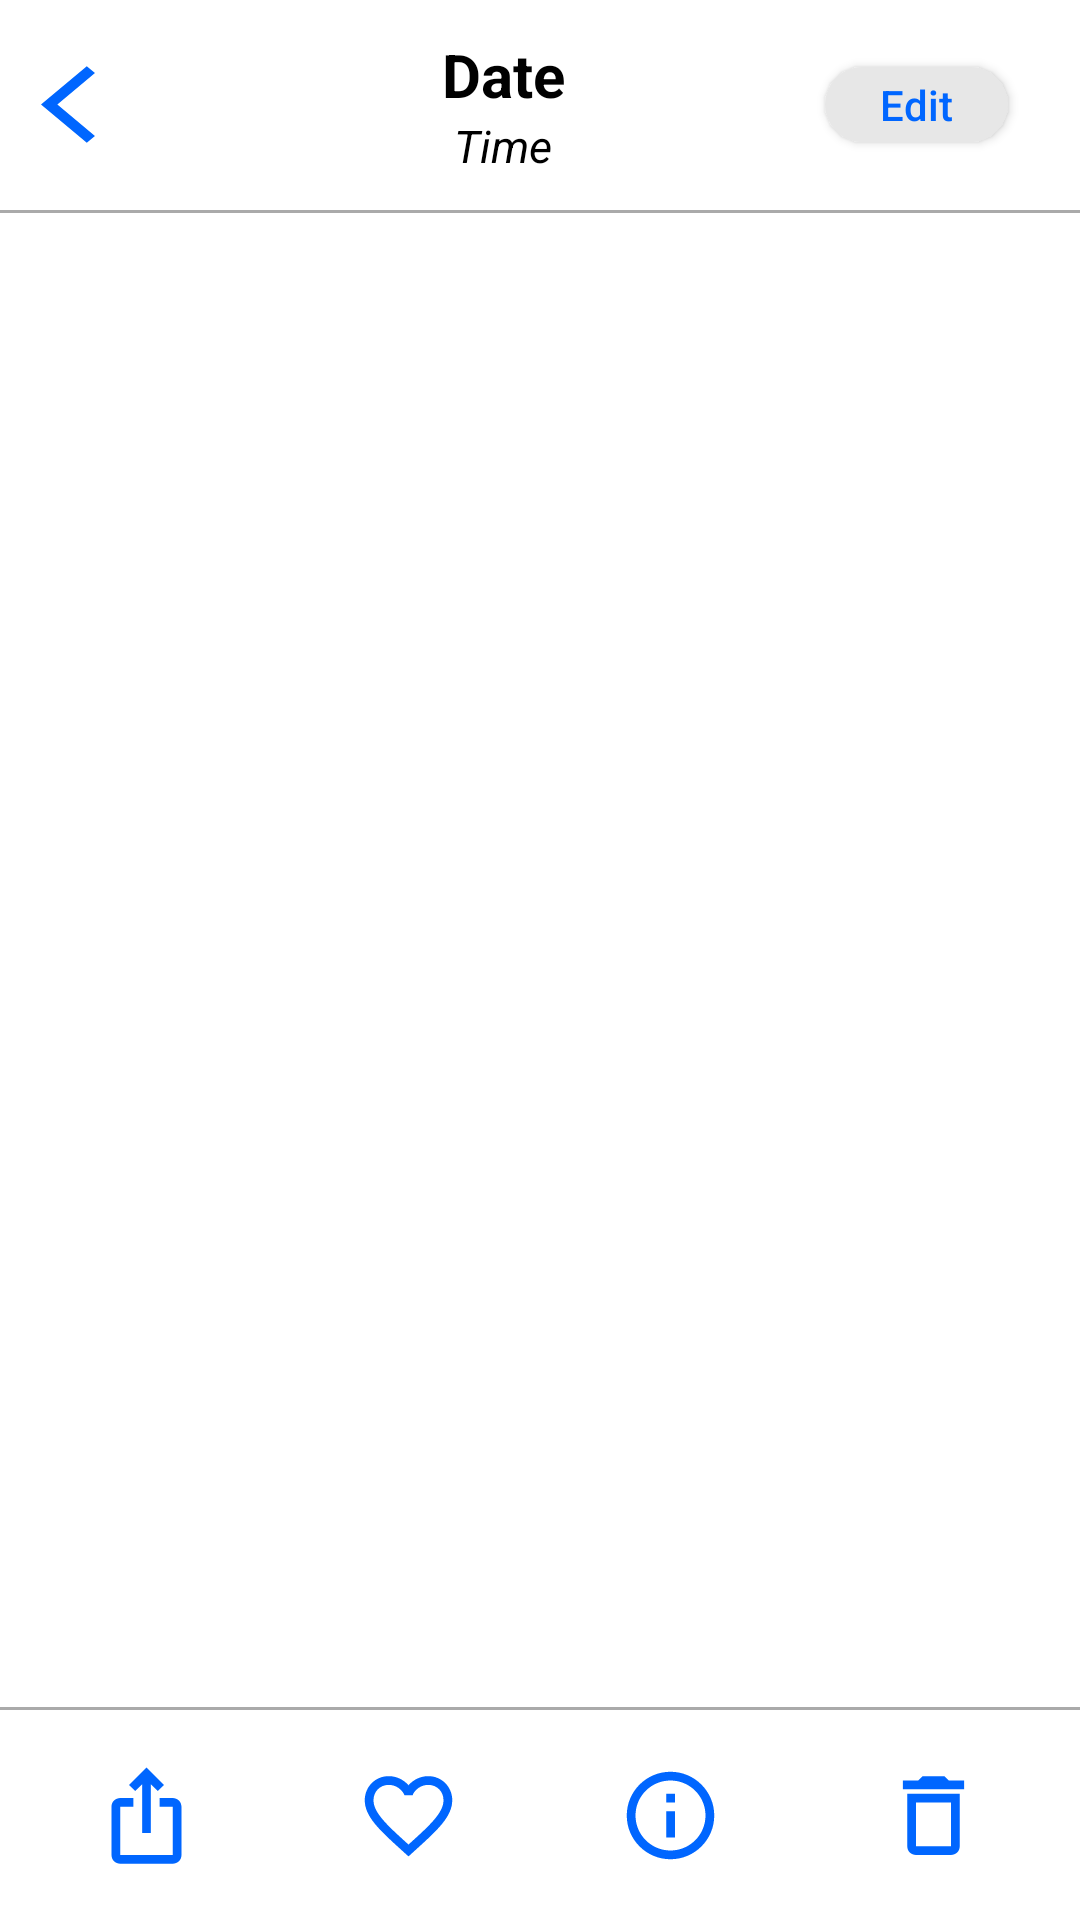

Named icons in this screenshot (1080px×1920px) and their bounding boxes, (left=x1, top=y1, right=x2, bottom=y2):
arrow back: (left=41, top=66, right=95, bottom=143)
delete: (left=902, top=1776, right=965, bottom=1855)
favorite border: (left=364, top=1776, right=453, bottom=1857)
info: (left=626, top=1771, right=715, bottom=1860)
share: (left=111, top=1767, right=182, bottom=1864)
